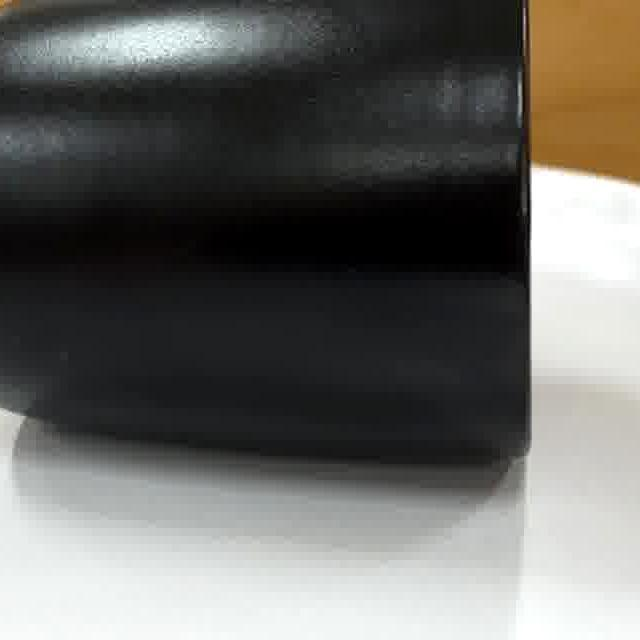cup: (0, 0, 530, 470)
